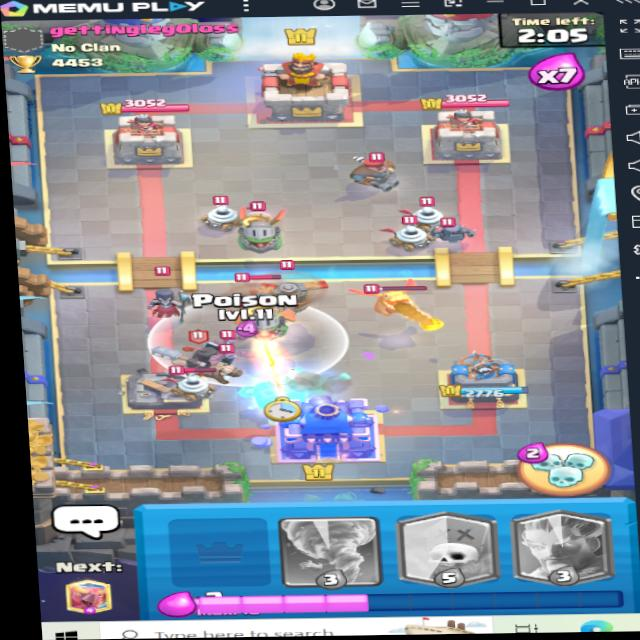baby-dragon: (347, 274, 442, 320)
bats: (212, 340, 246, 368)
dark-prince: (181, 327, 247, 383)
flying-machine: (254, 259, 329, 315)
hunter: (333, 140, 399, 188)
inferno-dragon: (230, 193, 295, 248), (231, 296, 303, 339)
mini-pekka: (424, 212, 482, 251)
night-witch: (143, 266, 187, 322)
zappie: (163, 357, 228, 398), (380, 213, 437, 248), (198, 191, 242, 227), (406, 192, 444, 232)
